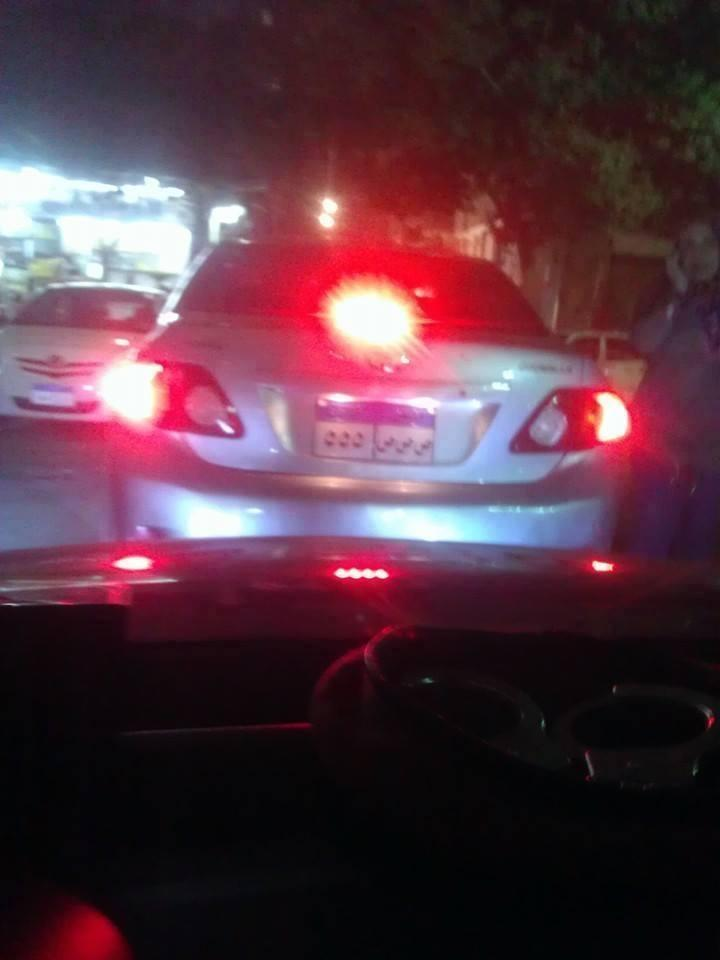5: (323, 429, 338, 451), (351, 429, 366, 450), (339, 429, 351, 449)
License Plate: (308, 392, 437, 468), (33, 384, 73, 406)
Saad: (415, 436, 432, 460), (377, 433, 394, 456), (396, 435, 413, 456)
car: (127, 243, 625, 564), (2, 282, 142, 436)
